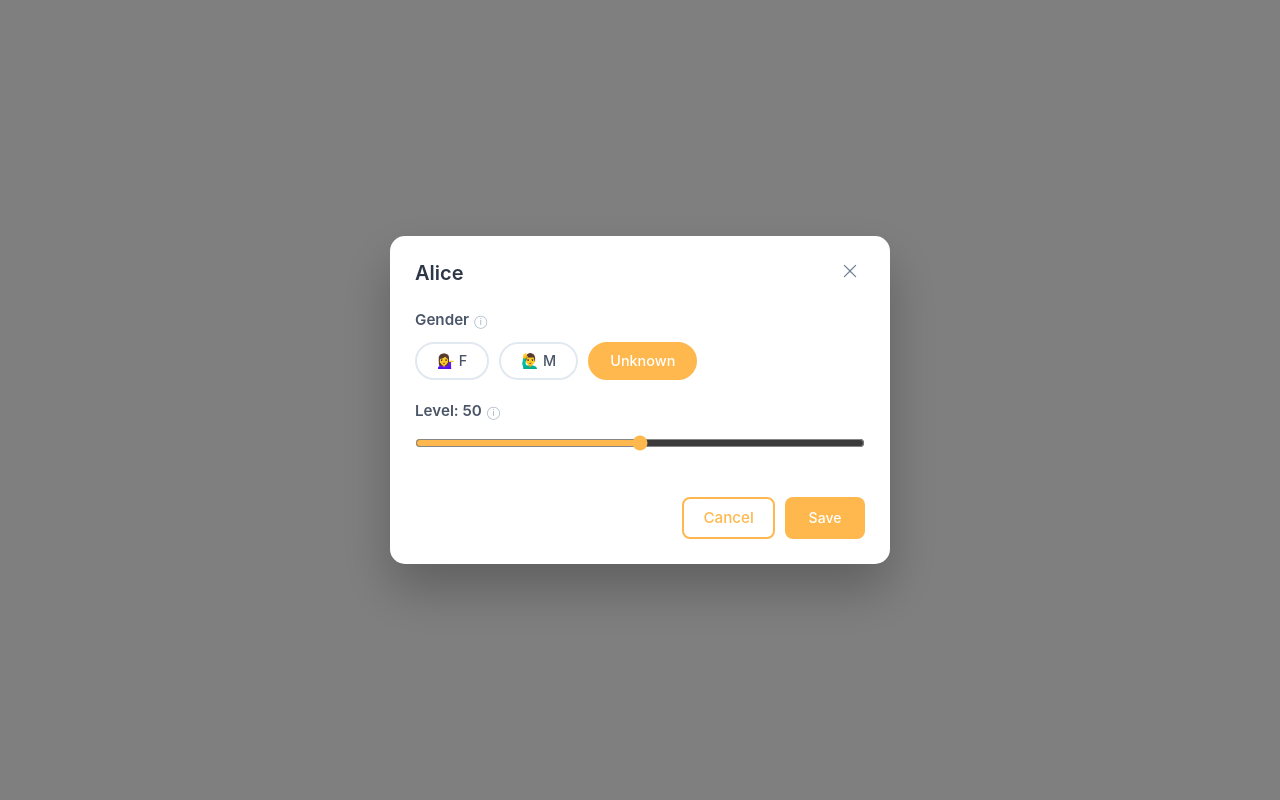
PlayerEditModal › Interactions › moving slider updates the displayed level value
Set the slider with test id "level-slider" to "80" at (770, 443), box [415,435,865,451]
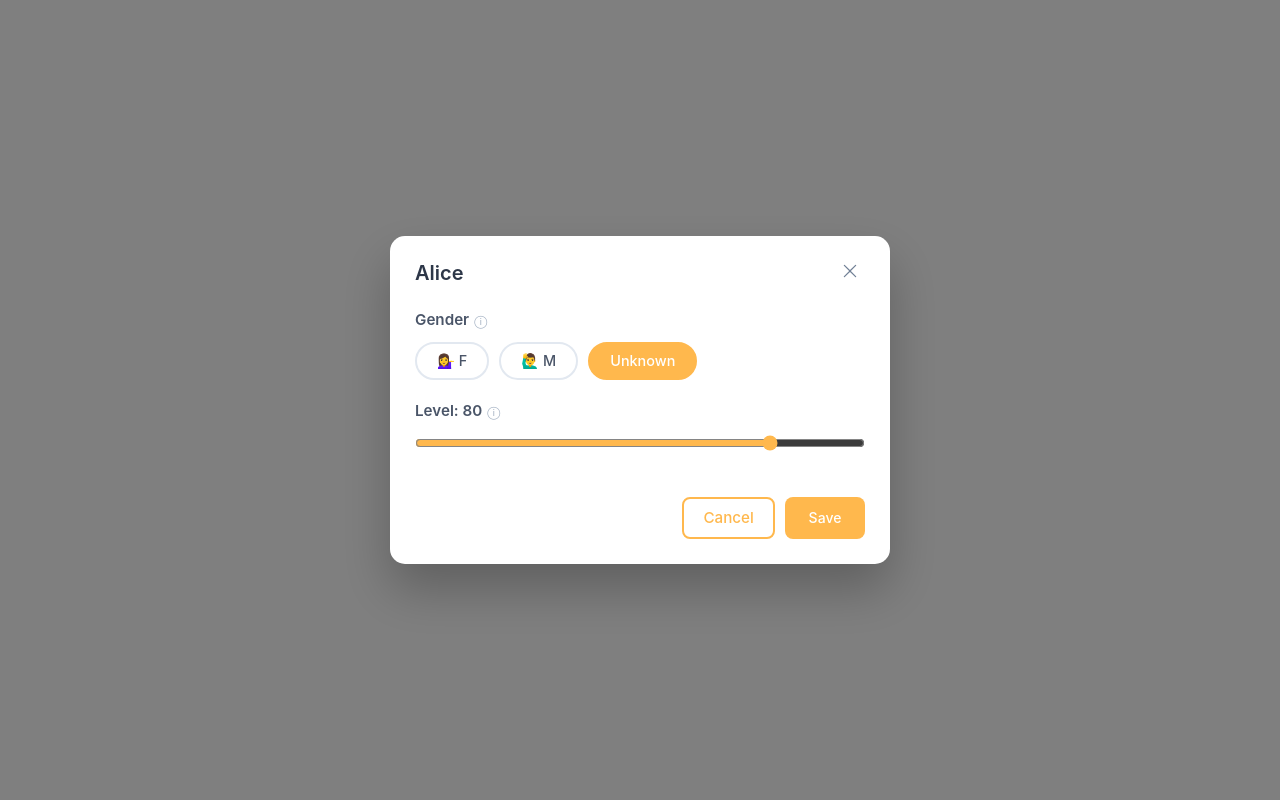
Expected: the text "Level: 80 ⓘ" is shown, [415,401,500,420]
